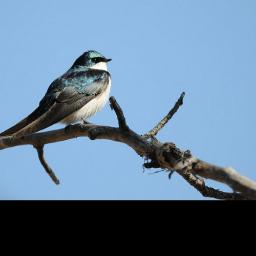Swallow: (0, 49, 114, 141)
